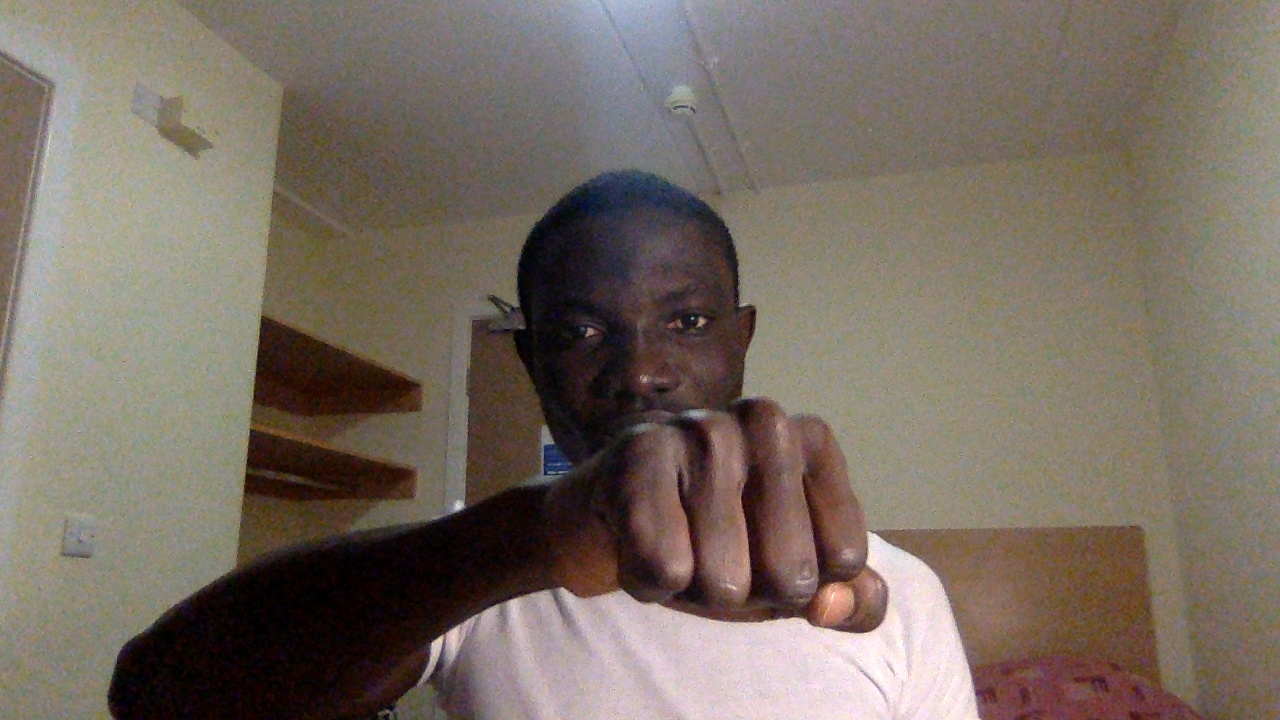Yes: (540, 393, 899, 653)
